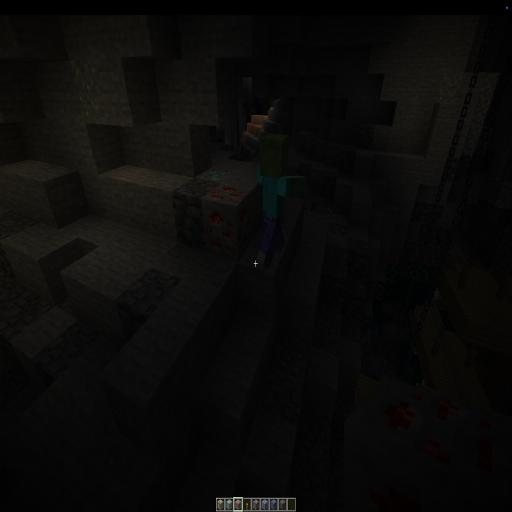diamond ore: (202, 163, 230, 185)
redstone ore: (206, 186, 248, 258)
